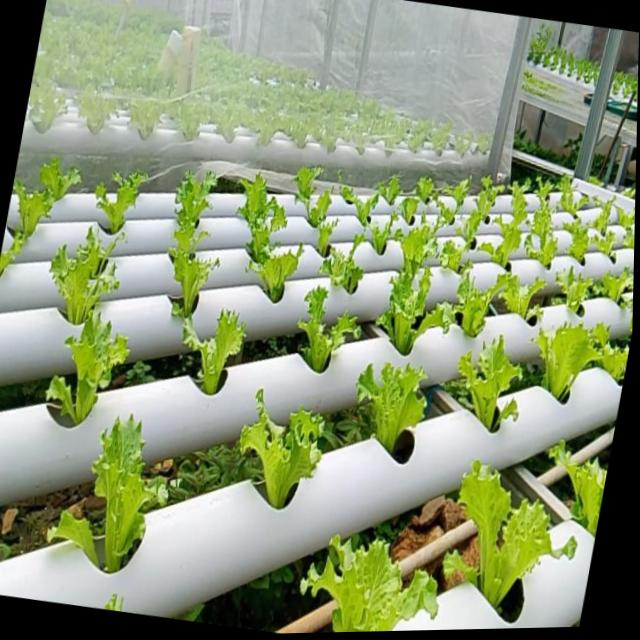Baby: (443, 456, 575, 601), (301, 531, 437, 632), (95, 413, 169, 570), (239, 389, 325, 507), (51, 312, 132, 425), (170, 174, 220, 327), (357, 363, 427, 462), (54, 229, 123, 326), (457, 336, 522, 431), (533, 318, 600, 400), (299, 287, 361, 373), (443, 268, 518, 338), (185, 310, 246, 395), (240, 176, 287, 263), (320, 236, 380, 296), (11, 184, 60, 256), (248, 247, 305, 304), (98, 174, 149, 236), (525, 184, 559, 269), (395, 218, 439, 280), (558, 176, 590, 215), (566, 218, 591, 262), (440, 240, 466, 272), (593, 199, 615, 236), (438, 198, 461, 228)
